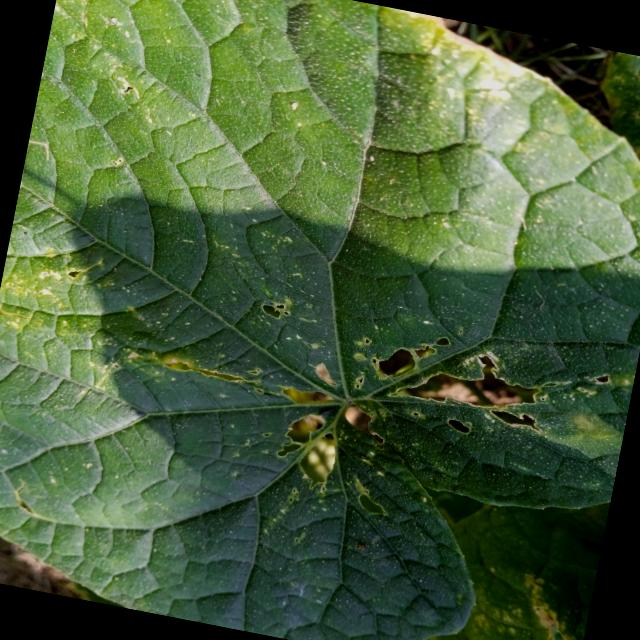cucumber_anthracnose: (0, 67, 640, 640)
